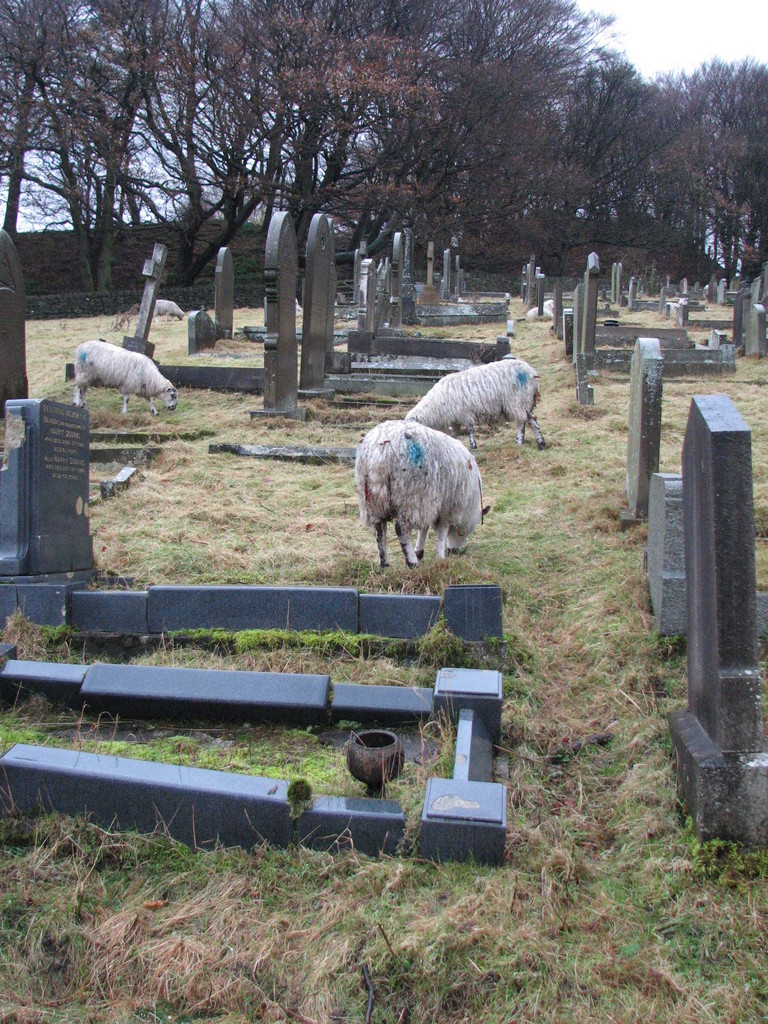sheep: (352, 418, 490, 572)
